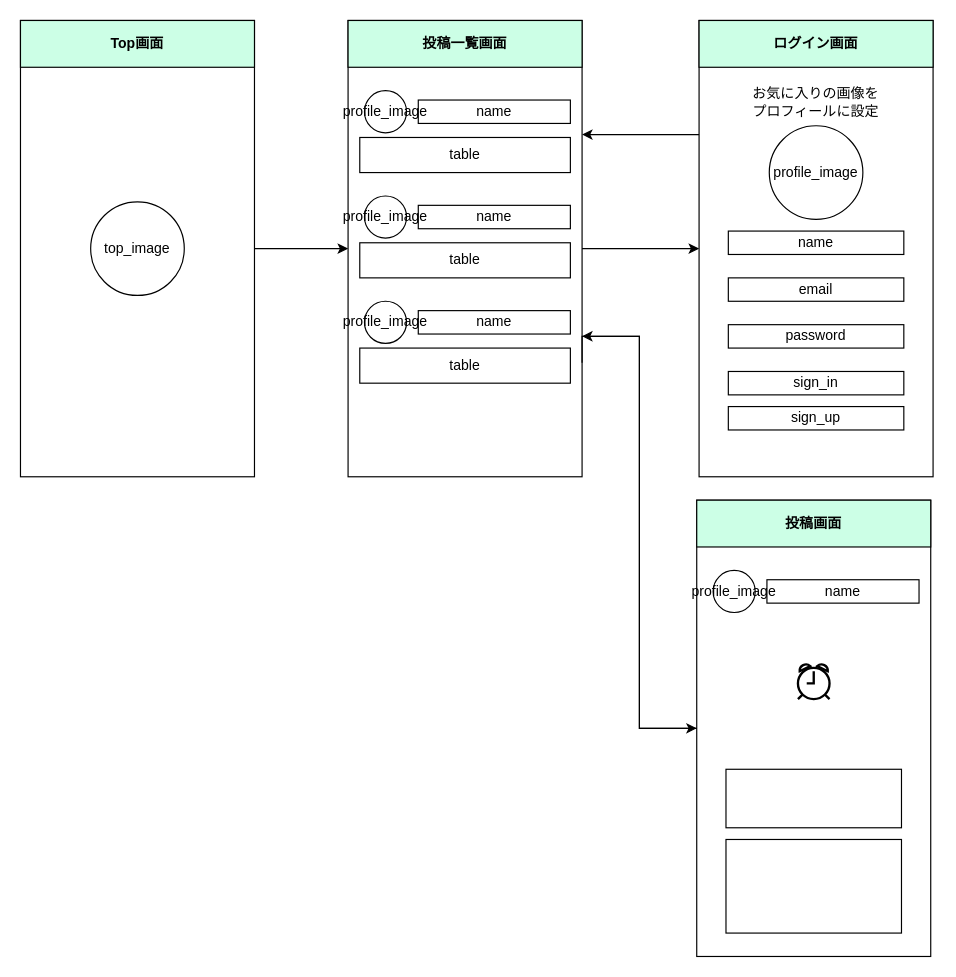
Some shapes in this 956 by 977 pixel diagram are drawn without their labels. Here are the shapes that lost their labels. From the top down, the centre of each, then its label:
At (813,798): "title".
At (813,885): "text".
